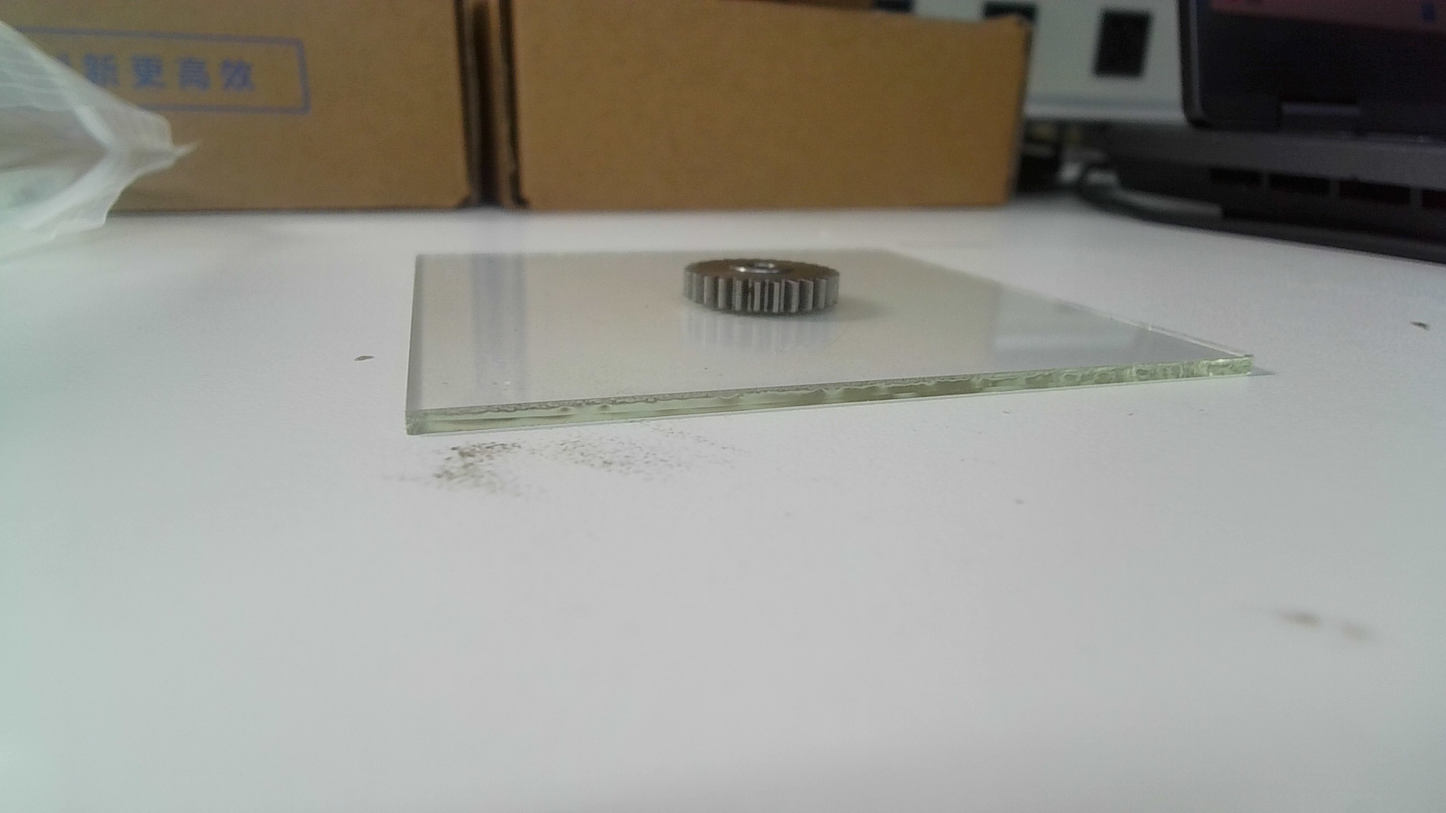gear: (680, 256, 845, 320)
